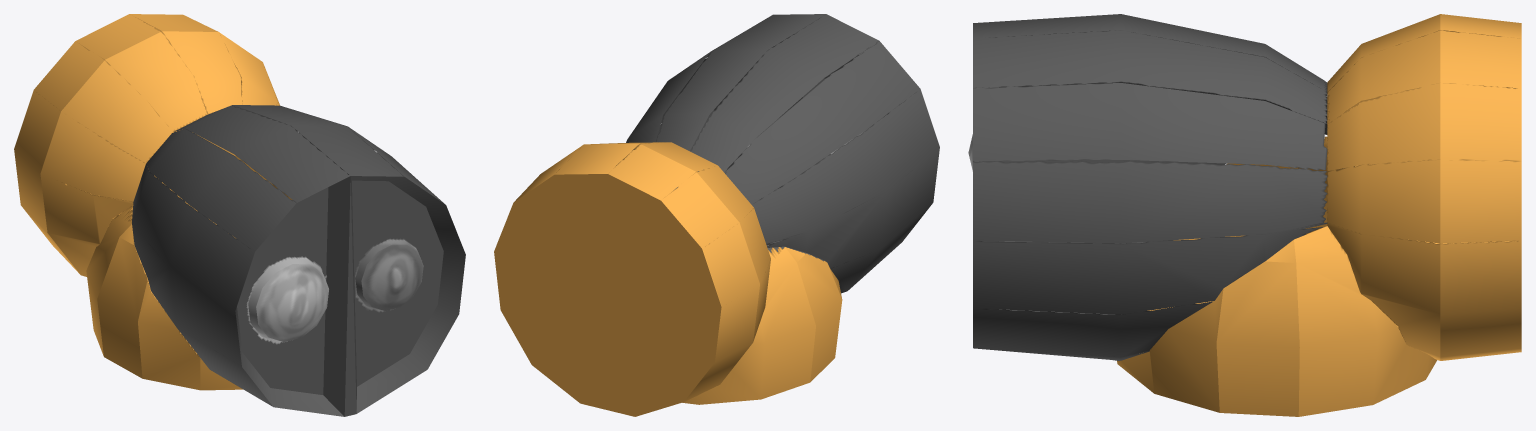
File: Color_Sensor.FBX
3 renders of one model, left to right at view 1: azimuth 30°, elevation 25°; view 2: azimuth 150°, elevation 25°; view 3: azimuth 270°, elevation 25°, orthographic. The views are drawn at different scales.
Visible parts, largest first — view 1: Sphere003; view 2: Sphere003; view 3: Sphere003.
Boxes of the visible parts, box(x1,y1,x2,y2) form: Sphere003: box(14, 14, 465, 416); Sphere003: box(494, 14, 939, 416); Sphere003: box(968, 14, 1521, 416).
Bounding box in the file's own units: 35.68 × 35.86 × 56.7.
